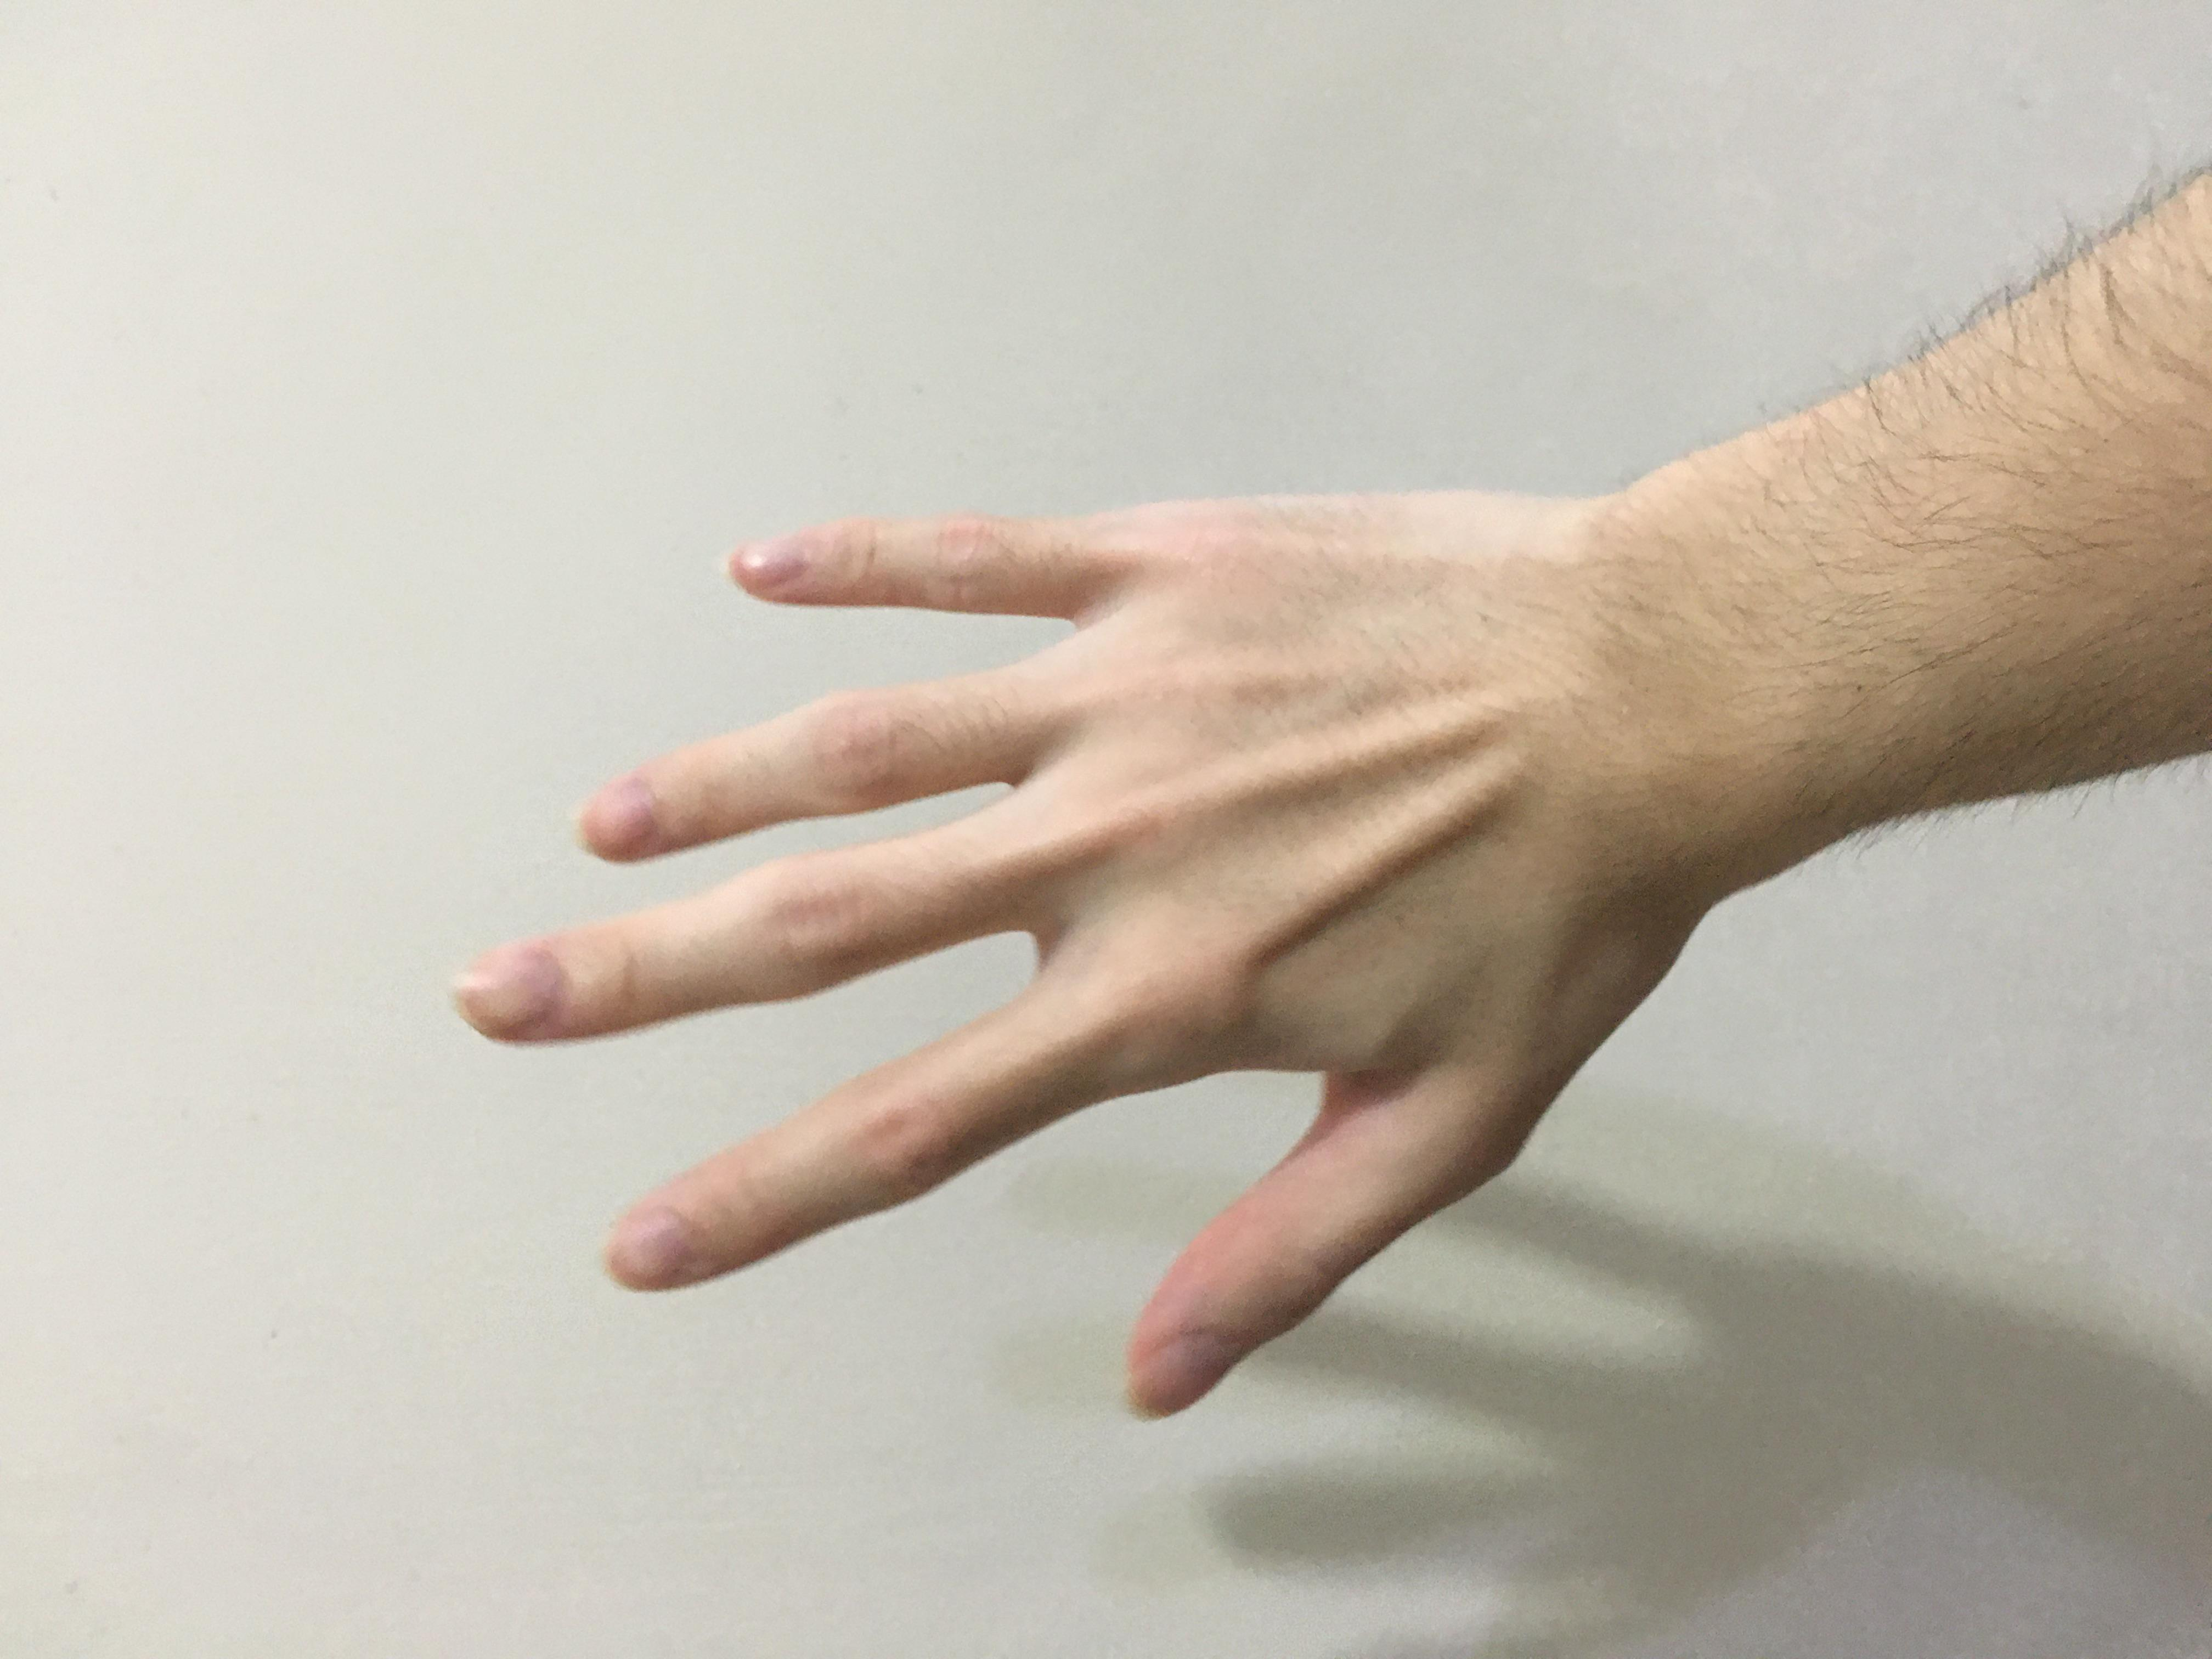hand: (306, 334, 1531, 1246)
